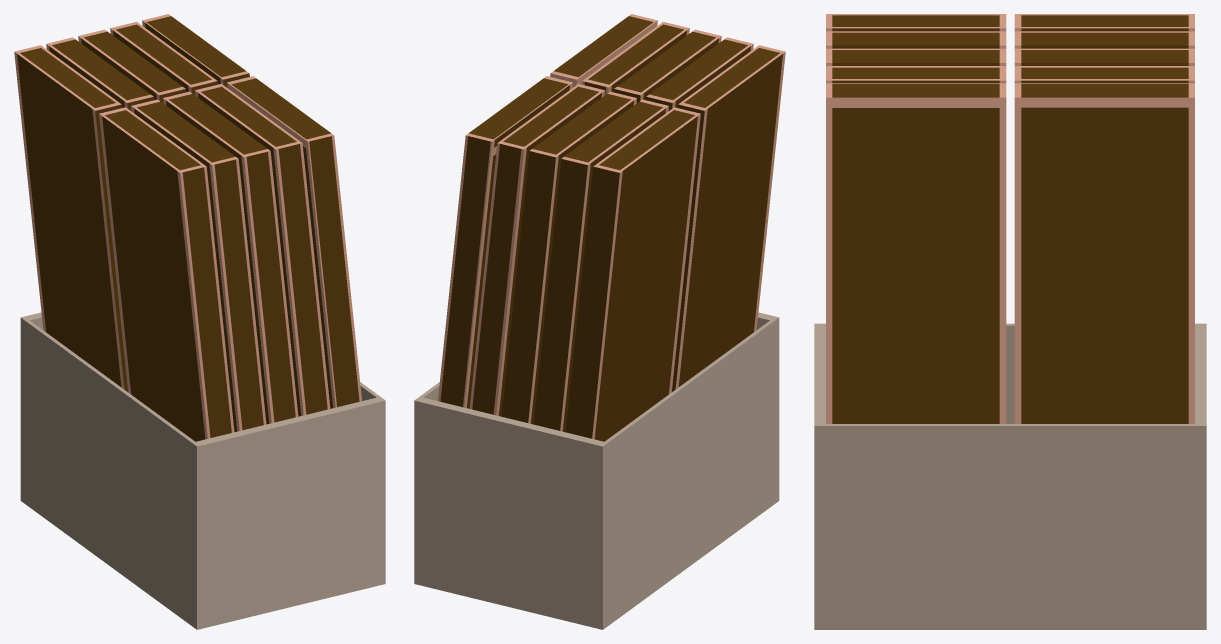
File: Schockopudding.fbx
3 renders of one model, left to right at view 1: azimuth 30°, elevation 25°; view 2: azimuth 150°, elevation 25°; view 3: azimuth 270°, elevation 25°, orthographic. The views are drawn at different scales.
Visible parts, largest first — view 1: Cube; view 2: Cube; view 3: Cube.
Boxes of the visible parts, box(x1,y1,x2,y2) form: Cube: box(14, 14, 385, 629); Cube: box(414, 14, 785, 629); Cube: box(814, 14, 1206, 629).
Bounding box in the file's own units: 39.35 × 85.53 × 60.
